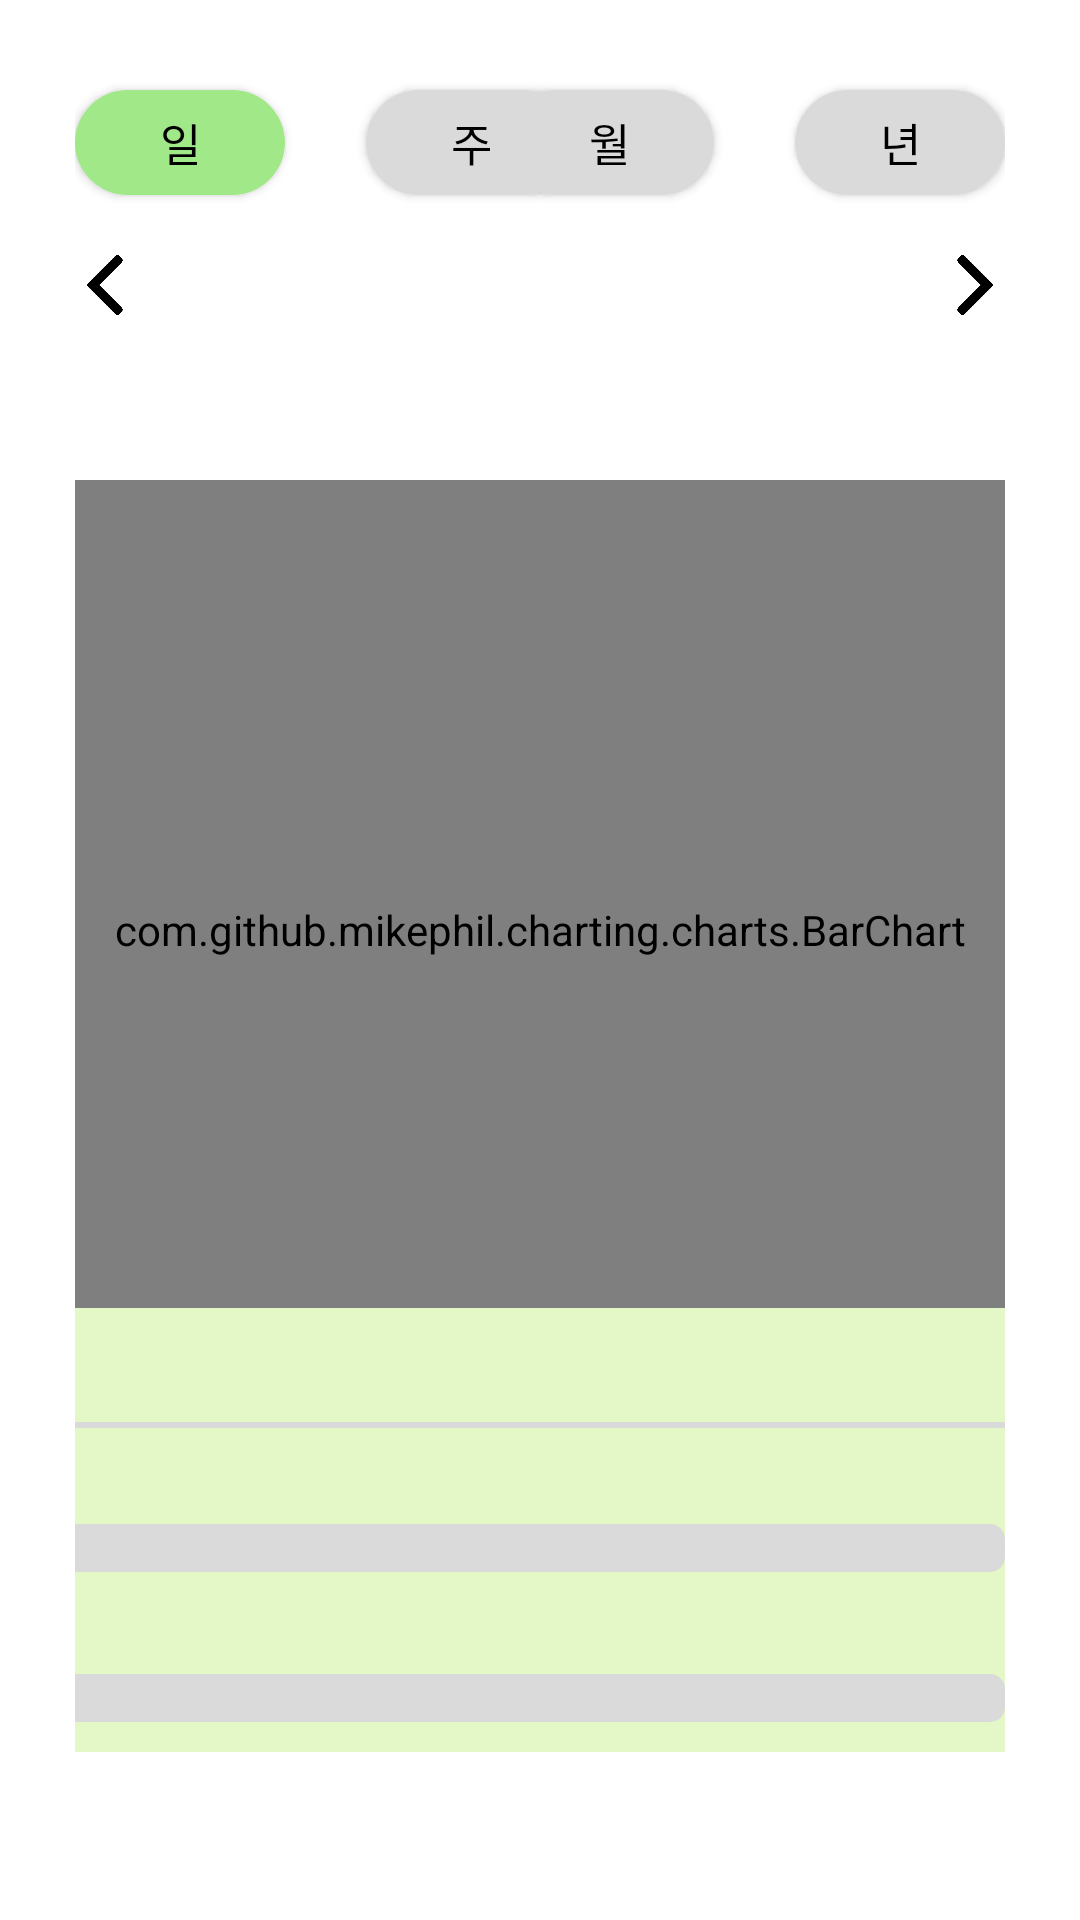

Locate icon controls on the screen. Image size 1080 x 1920, boxes as [x1,y1,x2,y2].
next: [957,255,993,315]
prev: [87,255,123,315]
